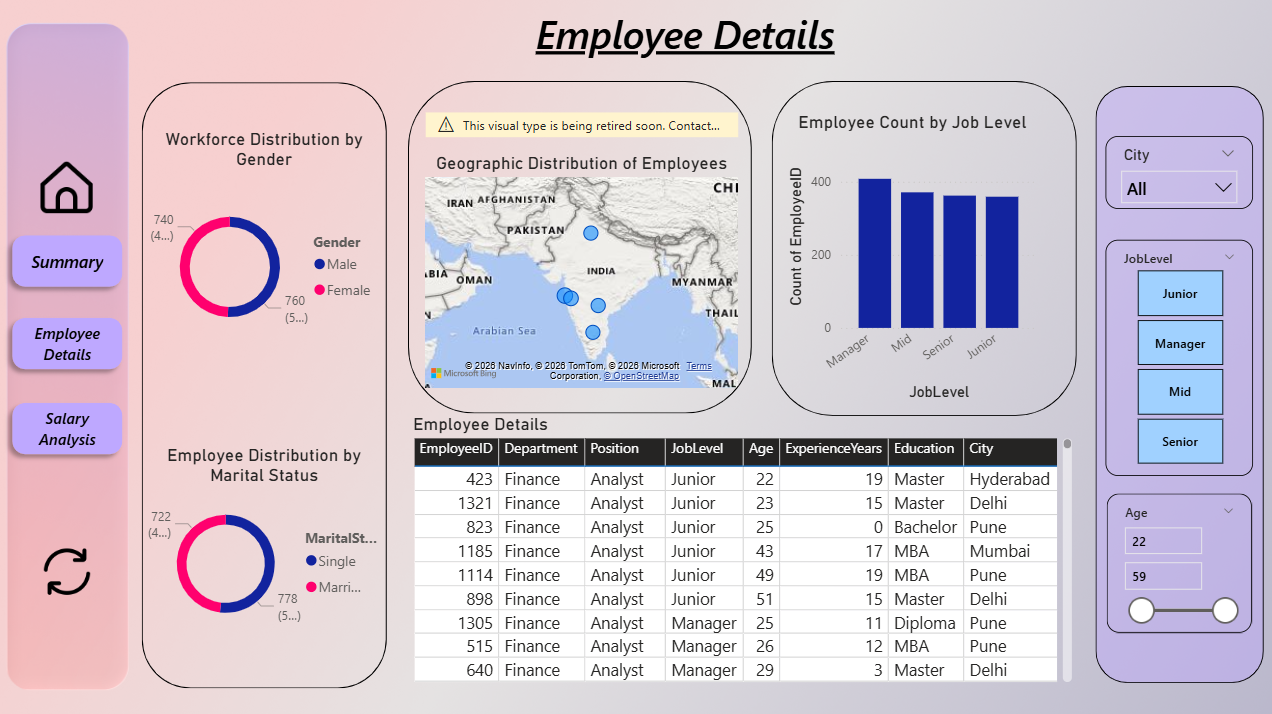

What the dashboard file says about the page in this screenshot:
{"tool":"powerbi","page":{"name":"Employee Details","canvas":[1280,720],"ordinal":2},"visuals":[{"type":"shape","box":[1083.8,96.2,162.5,576.2],"z":0,"group":"g3"},{"type":"map","title":"Geographic Distribution of Employees","fields":{"Category":["pem.City"],"Size":["CountNonNull(pem.EmployeeID)"]},"box":[431.9,121.9,311.3,271.4],"z":0},{"type":"shape","box":[28.9,232.1,124.3,67.6],"z":0,"group":"g1"},{"type":"shape","box":[419.8,91.7,331.8,320.9],"z":1000},{"type":"shape","box":[771,92.1,294.4,323.3],"z":1000,"group":"g2"},{"type":"slicer","fields":{"Values":["pem.City"]},"box":[1093.5,143.9,142.2,70.1],"z":1000,"group":"g3"},{"type":"shape","box":[28.9,311.7,124.3,67.6],"z":1000,"group":"g1"},{"type":"slicer","fields":{"Values":["pem.JobLevel"]},"box":[1093.5,244.2,142.2,228.3],"z":2000,"group":"g3"},{"type":"shape","box":[28.9,393.7,124.3,67.6],"z":2000,"group":"g1"},{"type":"image","box":[60.6,538.2,60.6,54.8],"z":2000},{"type":"shape","box":[162.9,92.9,236.5,585.1],"z":3000},{"type":"image","box":[60.3,164.5,60.3,60.3],"z":3000,"group":"g1"},{"type":"slicer","fields":{"Values":["pem.Age"]},"box":[1094.7,489.4,139.9,134.1],"z":3000,"group":"g3"},{"type":"group","id":"g1","title":"Group 2","box":[28.9,164.5,124.1,297.2],"z":4000},{"type":"clusteredColumnChart","title":"Employee Count by Job Level","fields":{"Category":["pem.JobLevel"],"Y":["CountNonNull(pem.EmployeeID)"]},"box":[782.3,121.5,250.1,284.4],"z":5000,"group":"g2"},{"type":"donutChart","title":"Workforce Distribution by Gender","fields":{"Category":["pem.Gender"],"Y":["CountNonNull(pem.EmployeeID)"]},"box":[162.9,137.5,236.5,229.2],"z":5000},{"type":"tableEx","title":"Employee Details","fields":{"Values":["pem.EmployeeID","pem.Department","pem.Position","pem.JobLevel","pem.Age","pem.ExperienceYears","pem.Education","pem.City"]},"box":[420,412.9,645.7,264.3],"z":6000},{"type":"donutChart","title":"Employee Distribution by Marital Status","fields":{"Y":["CountNonNull(pem.EmployeeID)"],"Category":["pem.MaritalStatus"]},"box":[162.9,442.8,236.5,191.8],"z":7000},{"type":"textbox","box":[456.2,16.2,462.5,61.2],"z":8000},{"type":"actionButton","box":[47.6,539.6,86.6,64.9],"z":9000},{"type":"group","id":"g2","title":"Group 1","box":[771,92.1,294.4,323.3],"z":10000},{"type":"group","id":"g3","title":"Group 3","box":[1083.8,96.2,162.5,576.2],"z":11000}]}

Visuals, with their boxes in screenshot pixels (x1, y1, x2, y2), scaled from the page's 1280x720 canvas onto the 1272x714 screenshot:
shape: (left=1077, top=95, right=1239, bottom=667)
"Geographic Distribution of Employees" map: (left=429, top=121, right=739, bottom=390)
shape: (left=29, top=230, right=152, bottom=297)
shape: (left=417, top=91, right=747, bottom=409)
shape: (left=766, top=91, right=1059, bottom=412)
slicer - pem.City: (left=1087, top=143, right=1228, bottom=212)
shape: (left=29, top=309, right=152, bottom=376)
slicer - pem.JobLevel: (left=1087, top=242, right=1228, bottom=469)
shape: (left=29, top=390, right=152, bottom=457)
image: (left=60, top=534, right=120, bottom=588)
shape: (left=162, top=92, right=397, bottom=672)
image: (left=60, top=163, right=120, bottom=223)
slicer - pem.Age: (left=1088, top=485, right=1227, bottom=618)
"Group 2" group: (left=29, top=163, right=152, bottom=458)
"Employee Count by Job Level" clusteredColumnChart: (left=777, top=120, right=1026, bottom=403)
"Workforce Distribution by Gender" donutChart: (left=162, top=136, right=397, bottom=364)
"Employee Details" tableEx: (left=417, top=409, right=1059, bottom=672)
"Employee Distribution by Marital Status" donutChart: (left=162, top=439, right=397, bottom=629)
textbox: (left=453, top=16, right=913, bottom=77)
actionButton: (left=47, top=535, right=133, bottom=599)
"Group 1" group: (left=766, top=91, right=1059, bottom=412)
"Group 3" group: (left=1077, top=95, right=1239, bottom=667)
